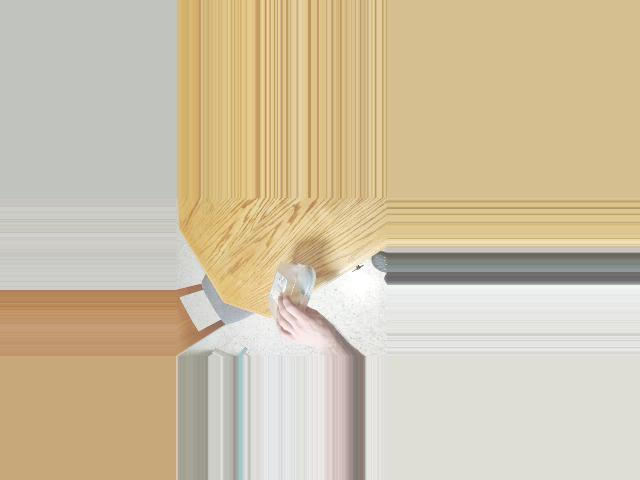cheese: (270, 281, 317, 334)
